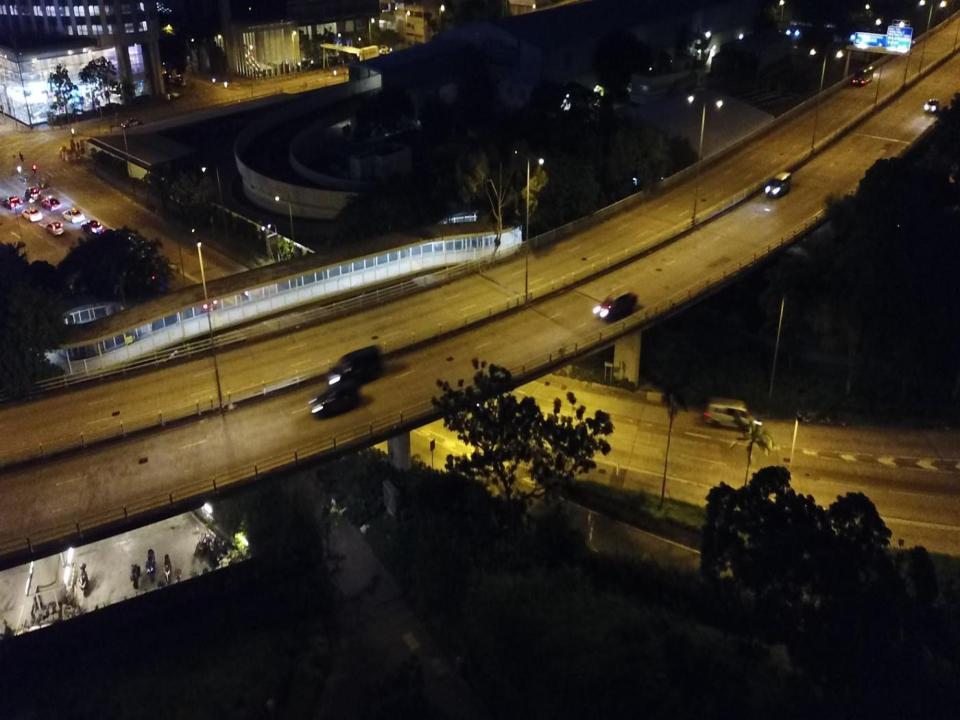bus: (852, 67, 874, 84)
car: (310, 382, 360, 417), (599, 290, 636, 320), (188, 287, 216, 312), (61, 208, 85, 222), (21, 207, 42, 222), (1, 196, 23, 210), (42, 195, 61, 211), (82, 219, 102, 234), (924, 97, 940, 114), (24, 186, 42, 201), (45, 221, 64, 235), (122, 117, 143, 127)
van: (329, 346, 383, 385), (706, 397, 760, 430), (765, 172, 791, 196), (173, 76, 186, 87)
